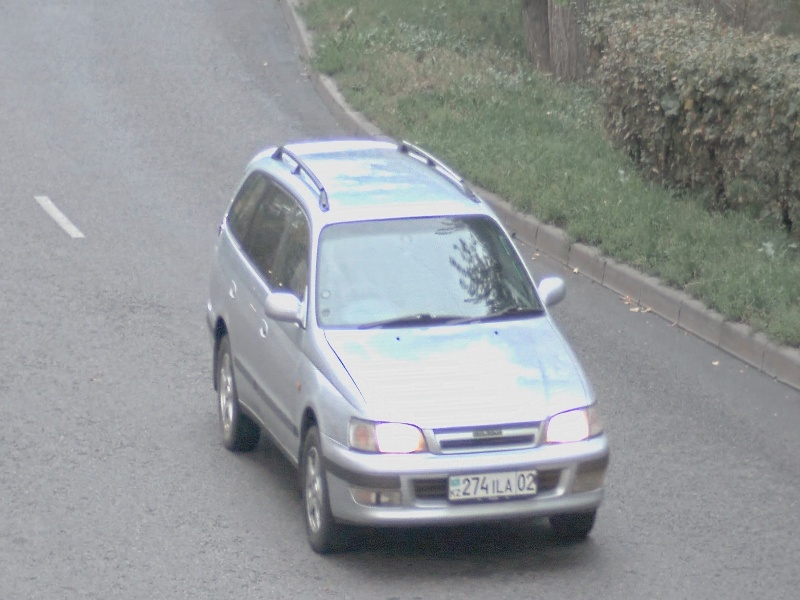plate: (446, 466, 539, 504)
